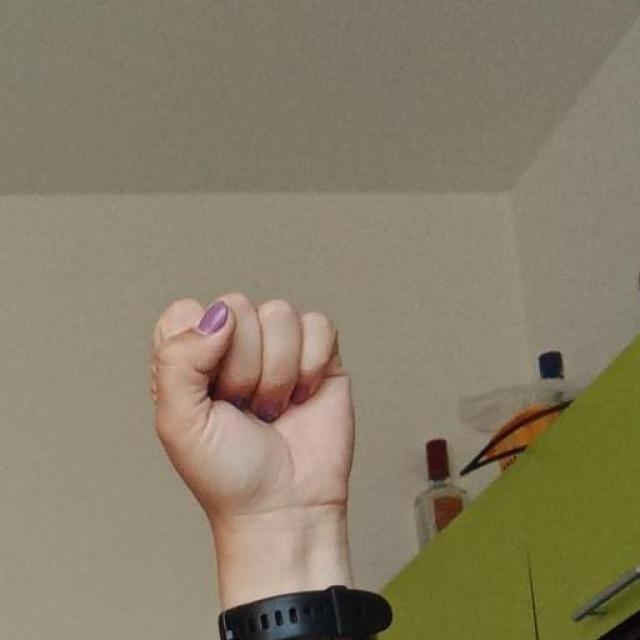hand: (150, 290, 358, 522)
